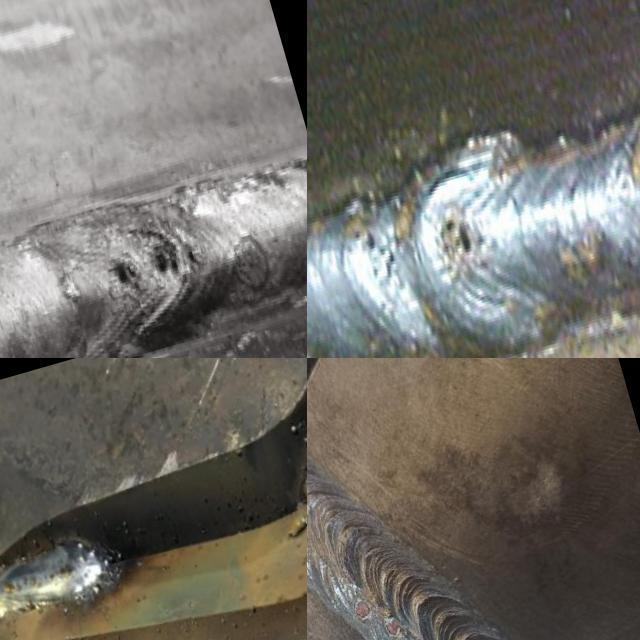defect: (144, 222, 206, 287), (356, 213, 405, 282), (105, 246, 146, 302), (440, 209, 480, 264), (380, 608, 403, 638), (351, 595, 375, 620)
